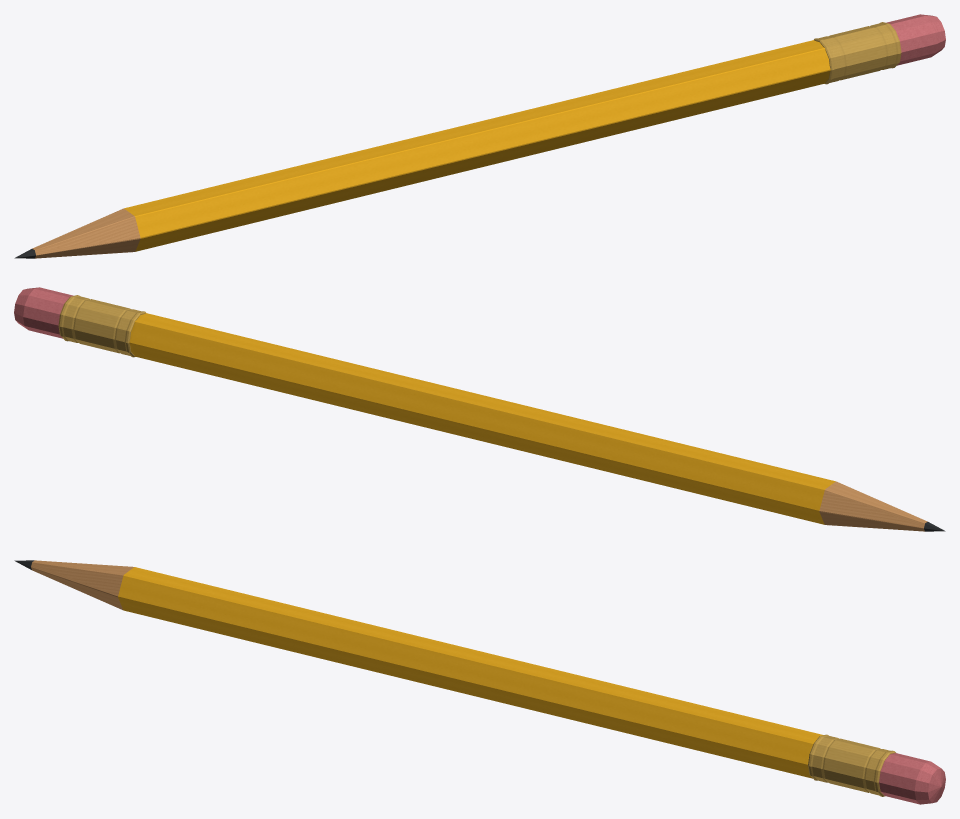
Rendered from wooden_pencil_LOD2.glb.
The picture shows the model from 3 angles, top to bottom: view 1: azimuth 30°, elevation 25°; view 2: azimuth 150°, elevation 25°; view 3: azimuth 330°, elevation 25°; orthographic projection.
Parts seen in each view (by area): view 1: Continuous_hexagonal_wood_graphite_core, Hollow_crimped_brass_ferrule, Seated_pink_eraser; view 2: Continuous_hexagonal_wood_graphite_core, Hollow_crimped_brass_ferrule, Seated_pink_eraser; view 3: Continuous_hexagonal_wood_graphite_core, Hollow_crimped_brass_ferrule, Seated_pink_eraser.
Part boxes in pixels (x1=…): Continuous_hexagonal_wood_graphite_core: x1=14, y1=40, x2=830, y2=258; Hollow_crimped_brass_ferrule: x1=814, y1=22, x2=901, y2=84; Seated_pink_eraser: x1=886, y1=14, x2=945, y2=65; Continuous_hexagonal_wood_graphite_core: x1=129, y1=313, x2=945, y2=531; Hollow_crimped_brass_ferrule: x1=58, y1=295, x2=145, y2=357; Seated_pink_eraser: x1=14, y1=287, x2=73, y2=338; Continuous_hexagonal_wood_graphite_core: x1=14, y1=560, x2=823, y2=778; Hollow_crimped_brass_ferrule: x1=808, y1=734, x2=895, y2=796; Seated_pink_eraser: x1=879, y1=753, x2=945, y2=804.
Bounding box in the file's own units: 0.19 × 0.0084 × 0.0084.
Materials: 5 (4 with a texture image).
